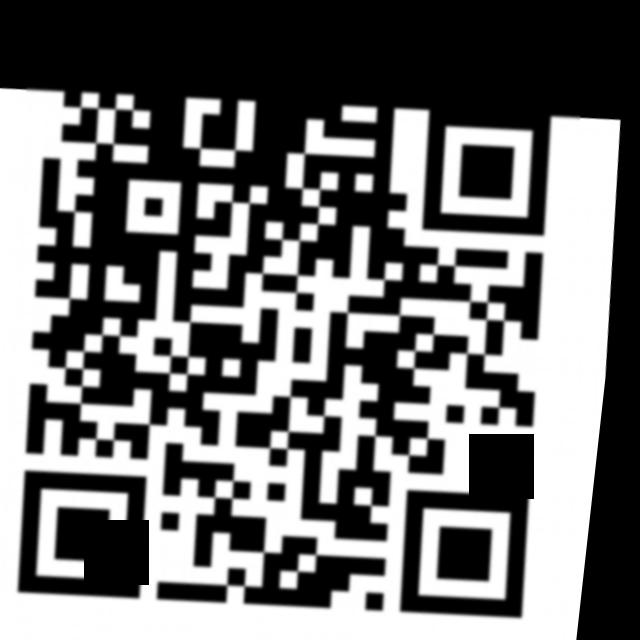QR_CODE: (0, 45, 611, 640)
